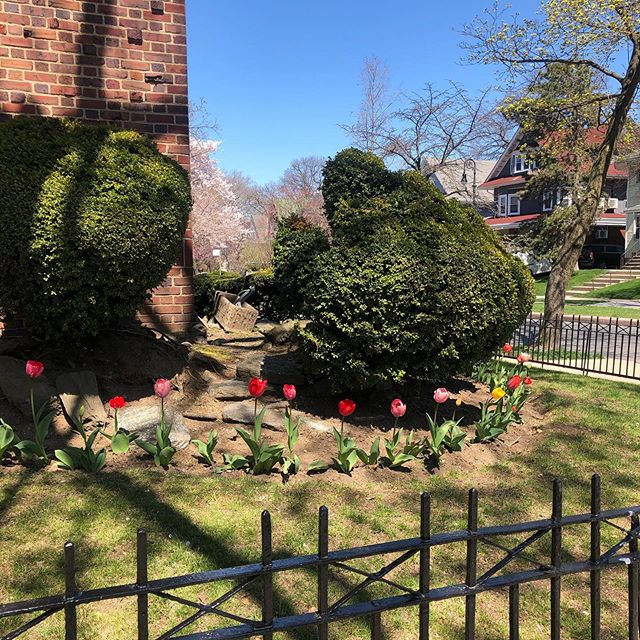building: (492, 122, 636, 276)
flowers: (1, 341, 567, 492)
tree: (284, 172, 529, 426), (534, 1, 640, 331)
